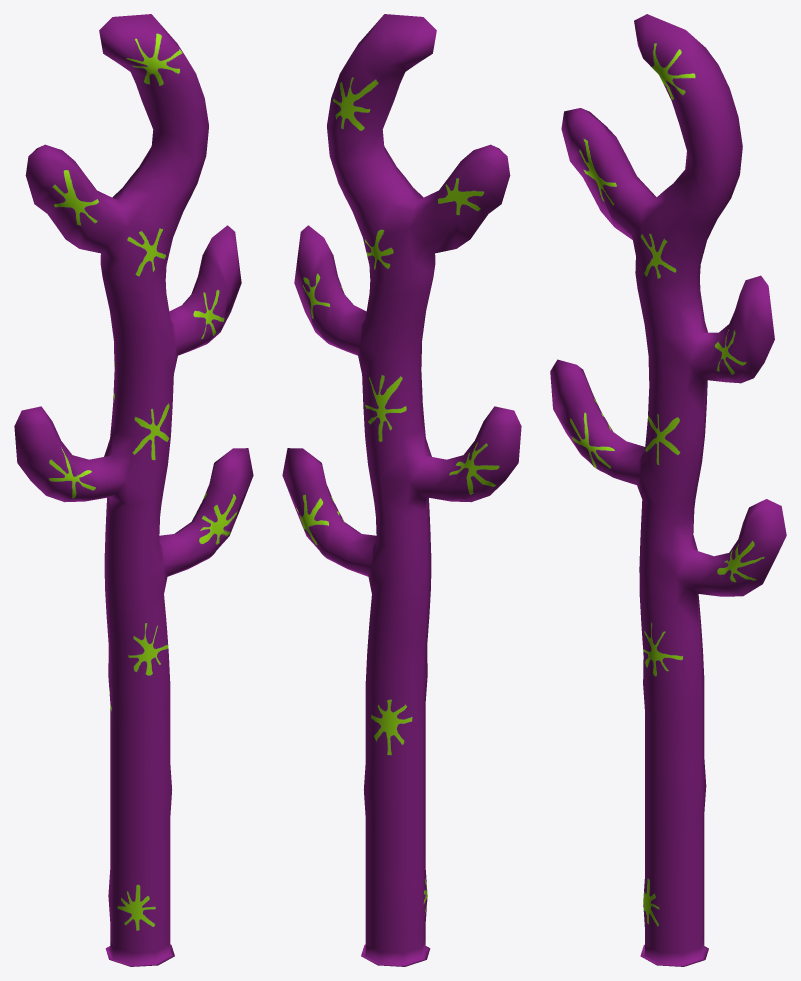
Rendered from object_123.008_lev3.glb.
The picture shows the model from 3 angles, left to right: view 1: azimuth 30°, elevation 25°; view 2: azimuth 150°, elevation 25°; view 3: azimuth 330°, elevation 25°; orthographic projection.
Visible parts, largest first — view 1: object_123.008_lev3; view 2: object_123.008_lev3; view 3: object_123.008_lev3.
Boxes of the visible parts, x1,y1,x2,y2 form: object_123.008_lev3: [14, 14, 253, 966]; object_123.008_lev3: [282, 14, 521, 966]; object_123.008_lev3: [550, 14, 786, 966].
Bounding box in the file's own units: 2.82 × 10.61 × 0.7341.
Materials: 1 (1 with a texture image).
